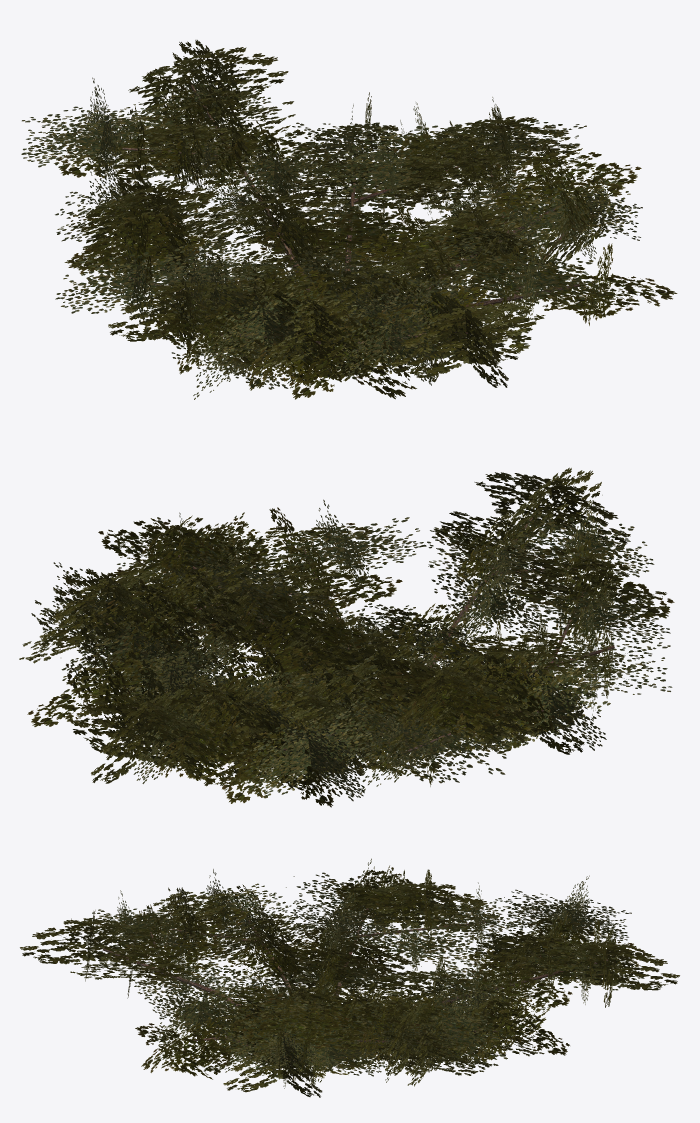
File: bush_3d_04_lod0.glb
The picture shows the model from 3 angles, top to bottom: view 1: azimuth 30°, elevation 25°; view 2: azimuth 150°, elevation 25°; view 3: azimuth 270°, elevation 25°; orthographic projection. The views are drawn at different scales.
Visible parts, largest first — view 1: foliage_cards, wood_geometry; view 2: foliage_cards, wood_geometry; view 3: foliage_cards, wood_geometry.
Boxes of the visible parts, box(x1,y1,x2,y2) form: foliage_cards: box(21, 40, 677, 399); wood_geometry: box(109, 84, 580, 350); foliage_cards: box(19, 467, 674, 807); wood_geometry: box(105, 514, 614, 751); foliage_cards: box(20, 858, 679, 1097); wood_geometry: box(102, 907, 607, 1060).
Size of the model in its own units: 2.79 by 0.816 by 3.7.
2 materials, 2 textured.
